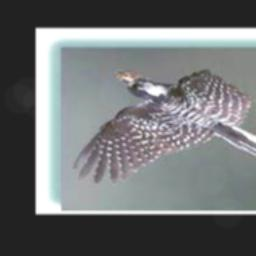Woodpecker: (63, 64, 256, 188)
